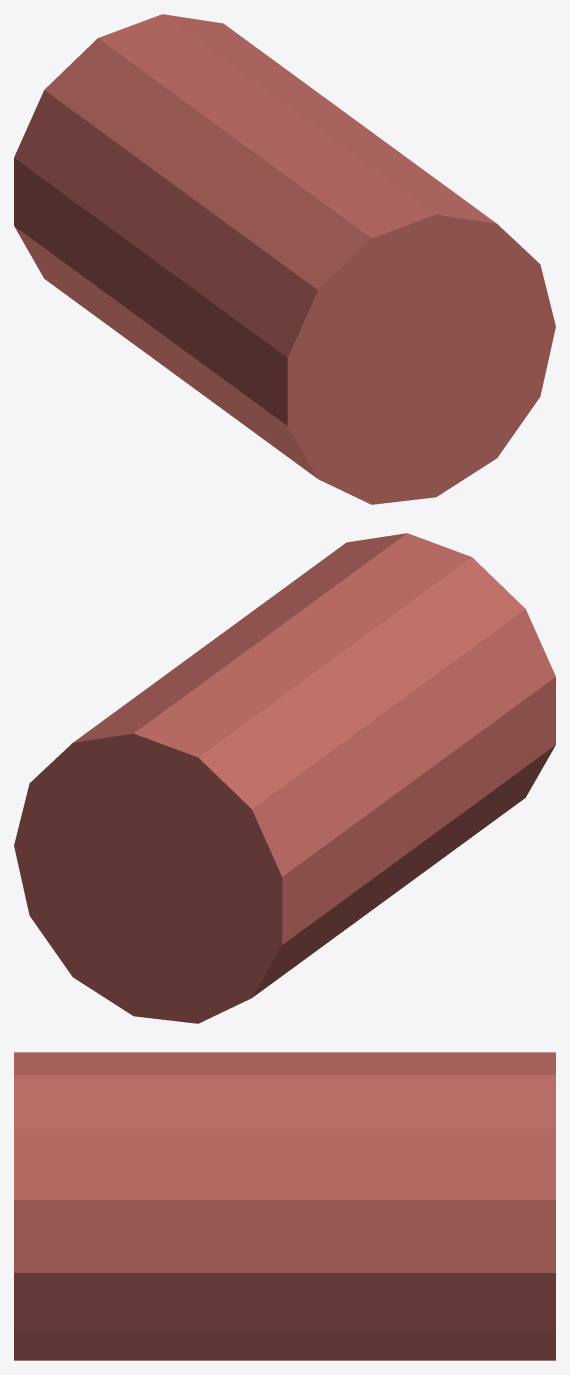
File: cola.glb
3 views of the same model, one above another, from view 1: azimuth 30°, elevation 25°; view 2: azimuth 150°, elevation 25°; view 3: azimuth 270°, elevation 25° (orthographic).
Parts seen in each view (by area): view 1: geometry_0; view 2: geometry_0; view 3: geometry_0.
Boxes of the visible parts, x1,y1,x2,y2 form: geometry_0: [14, 14, 555, 504]; geometry_0: [14, 533, 555, 1023]; geometry_0: [14, 1052, 555, 1360].
Bounding box in the file's own units: 0.065 × 0.0655 × 0.115.
